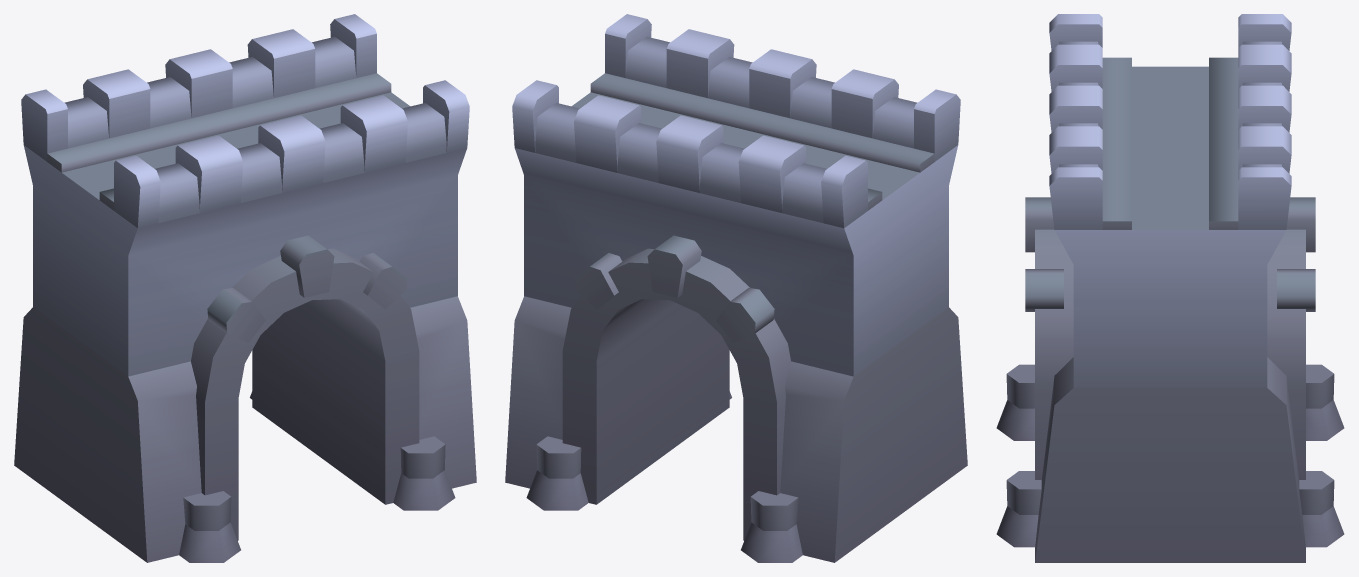
File: castle-gate.glb
3 views of the same model, side by side, from view 1: azimuth 30°, elevation 25°; view 2: azimuth 150°, elevation 25°; view 3: azimuth 270°, elevation 25° (orthographic).
Parts seen in each view (by area): view 1: castle-gate; view 2: castle-gate; view 3: castle-gate.
Part boxes in pixels (x1,y1,x2,y2): castle-gate: (14, 14, 476, 562); castle-gate: (505, 14, 967, 562); castle-gate: (996, 14, 1344, 562).
Bounding box in the file's own units: 4 × 4.4 × 3.6.
Materials: 1 (1 with a texture image).
